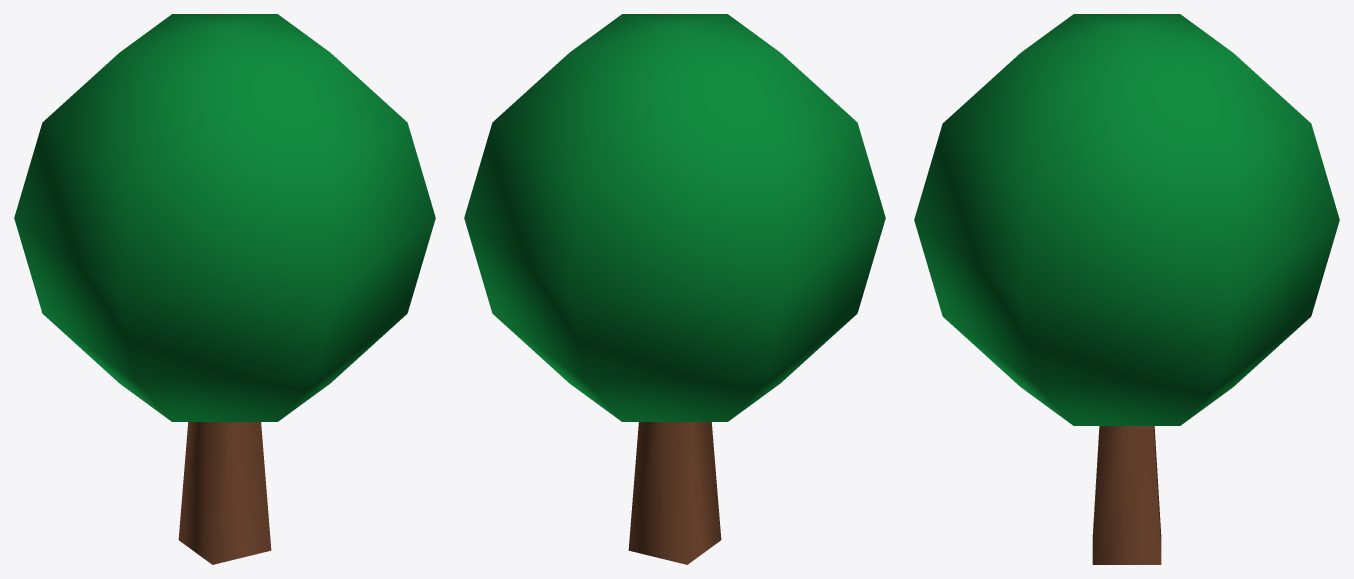
Rendered from tree.fbx.
3 views of the same model, side by side, from view 1: azimuth 30°, elevation 25°; view 2: azimuth 150°, elevation 25°; view 3: azimuth 270°, elevation 25° (orthographic).
Parts seen in each view (by area): view 1: tree; view 2: tree; view 3: tree.
Boxes of the visible parts, x1,y1,x2,y2 form: tree: [14, 14, 435, 564]; tree: [464, 14, 885, 564]; tree: [914, 14, 1339, 564].
Size of the model in its own units: 202 by 317 by 233.
1 material, 1 textured.
